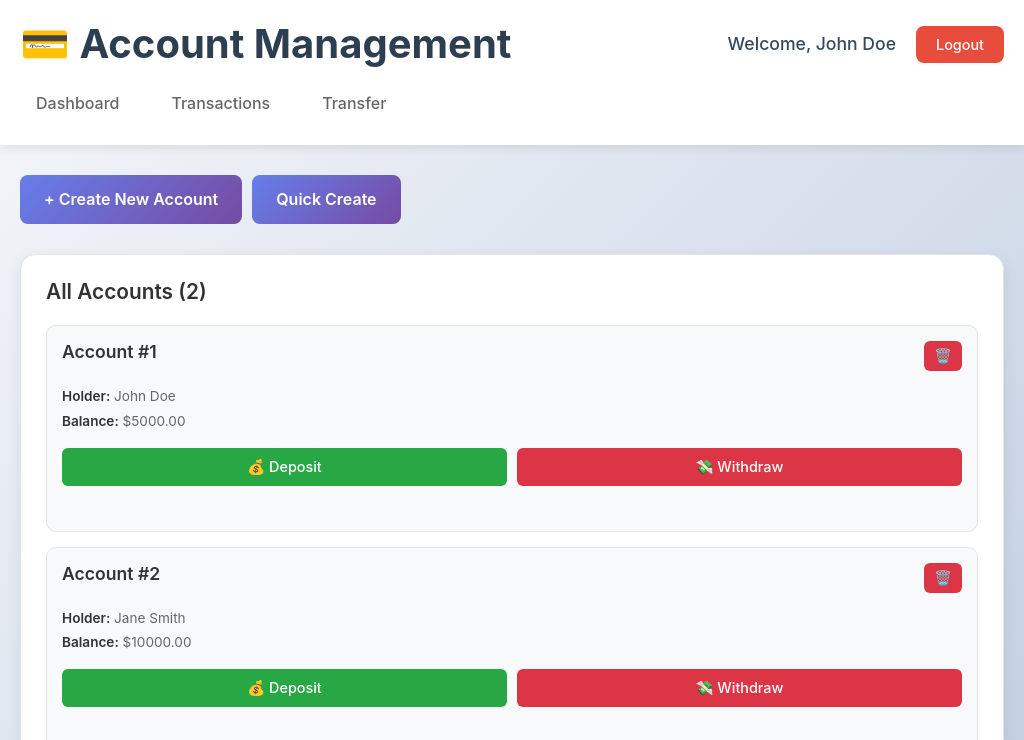
it: AccountDetails Component › handles delete account error
Click the 1st button "🗑️".
click(943, 356)  # box [924, 341, 962, 371]
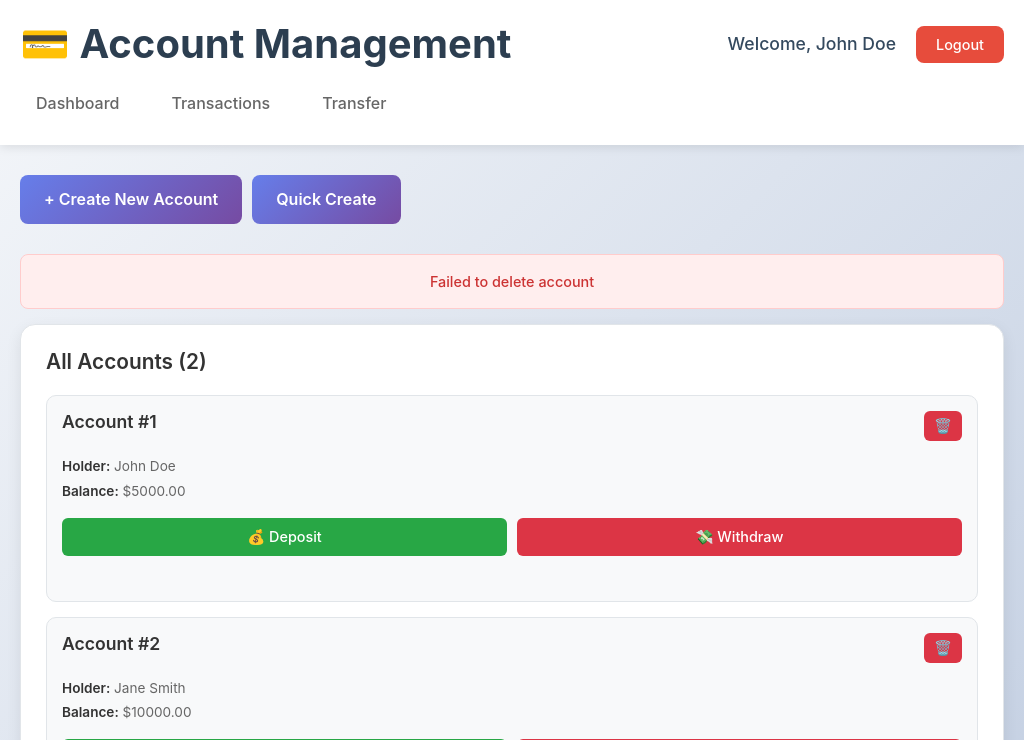
Result: the text "Failed to delete account" is shown at [20, 254, 1004, 309]
